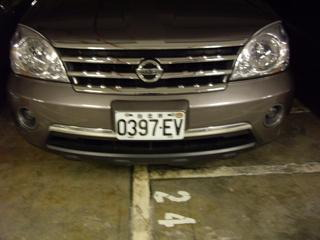plate: (113, 109, 186, 142)
